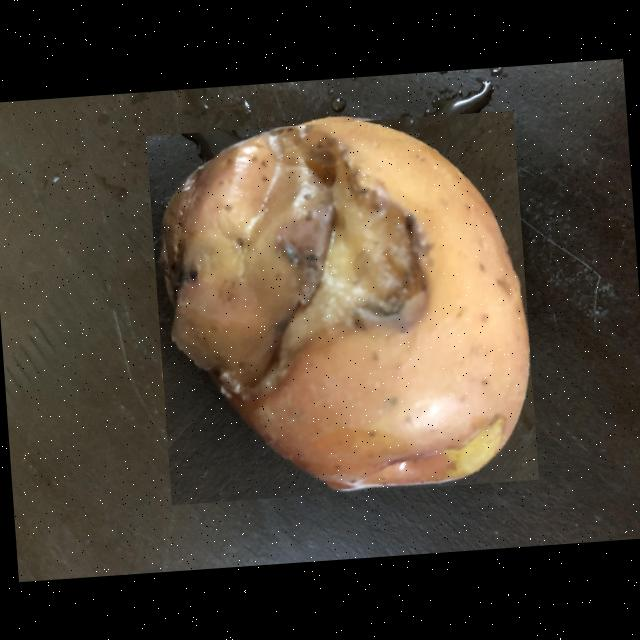Damaged potato: (145, 110, 538, 505)
